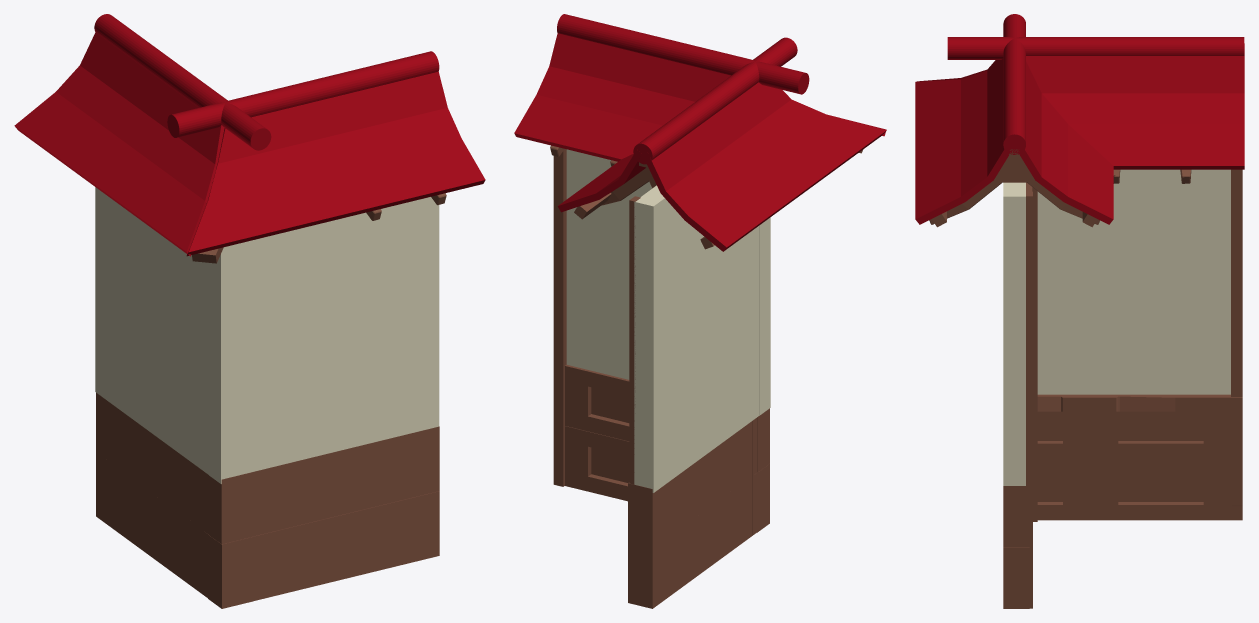
The model's file is corner-wall-simple.glb.
3 renders of one model, left to right at view 1: azimuth 30°, elevation 25°; view 2: azimuth 150°, elevation 25°; view 3: azimuth 270°, elevation 25°, orthographic. The views are drawn at different scales.
Visible parts, largest first — view 1: corner-wall-panel.001, Cube.003, corner-wall-panel, Cube.001, bottom-wood-corner-panel, top-wood-corner-panel, bottom-wood-corner-panel.002, bottom-wood-corner-panel.001, Cylinder.001, Cylinder; view 2: corner-wall-panel, Cube.001, Cube.004, corner-wall-panel.001, bottom-wood-corner-panel.002, bottom-wood-corner-panel.001, left-wood-side (×2), Cylinder.001, top-wood-corner-panel, bottom-wood-corner-panel, Cylinder, Cube.002 (+1 smaller); view 3: corner-wall-panel, Cube.002, bottom-wood-corner-panel.001, bottom-wood-corner-panel.002, Cube.003, Cube.004, corner-wall-panel.001, left-wood-side (×3), Cylinder, Cylinder.001, roof-rib.002, top-wood-corner-panel (+1 smaller).
Part boxes in pixels (left/top/right/bottom): corner-wall-panel.001: left=209, top=197, right=439, bottom=483; Cube.003: left=186, top=71, right=485, bottom=256; corner-wall-panel: left=95, top=187, right=208, bottom=474; Cube.001: left=14, top=32, right=224, bottom=256; bottom-wood-corner-panel: left=208, top=491, right=439, bottom=608; top-wood-corner-panel: left=208, top=426, right=439, bottom=543; bottom-wood-corner-panel.002: left=96, top=452, right=207, bottom=597; bottom-wood-corner-panel.001: left=96, top=392, right=207, bottom=533; Cylinder.001: left=167, top=51, right=439, bottom=137; Cylinder: left=94, top=14, right=271, bottom=150; corner-wall-panel: left=634, top=185, right=759, bottom=492; Cube.001: left=642, top=82, right=886, bottom=251; Cube.004: left=514, top=33, right=730, bottom=161; corner-wall-panel.001: left=566, top=149, right=770, bottom=415; bottom-wood-corner-panel.002: left=628, top=473, right=756, bottom=608; bottom-wood-corner-panel.001: left=628, top=418, right=756, bottom=548; left-wood-side (×2): left=553, top=149, right=640, bottom=486; Cylinder.001: left=557, top=14, right=809, bottom=94; top-wood-corner-panel: left=565, top=364, right=769, bottom=472; bottom-wood-corner-panel: left=565, top=426, right=769, bottom=532; Cylinder: left=633, top=37, right=797, bottom=164; Cube.002: left=557, top=150, right=645, bottom=212; corner-wall-panel: left=1037, top=169, right=1230, bottom=394; Cube.002: left=1026, top=49, right=1244, bottom=169; bottom-wood-corner-panel.001: left=1037, top=394, right=1242, bottom=458; bottom-wood-corner-panel.002: left=1037, top=459, right=1242, bottom=520; Cube.003: left=915, top=59, right=1014, bottom=224; Cube.004: left=1014, top=61, right=1113, bottom=224; corner-wall-panel.001: left=1003, top=182, right=1025, bottom=485; left-wood-side (×3): left=1026, top=169, right=1242, bottom=608; Cylinder: left=947, top=37, right=1244, bottom=59; Cylinder.001: left=1003, top=14, right=1025, bottom=154; roof-rib.002: left=929, top=156, right=1099, bottom=224; top-wood-corner-panel: left=1003, top=486, right=1029, bottom=547.
Size of the model in its own units: 1.44 by 2.3 by 1.44.
